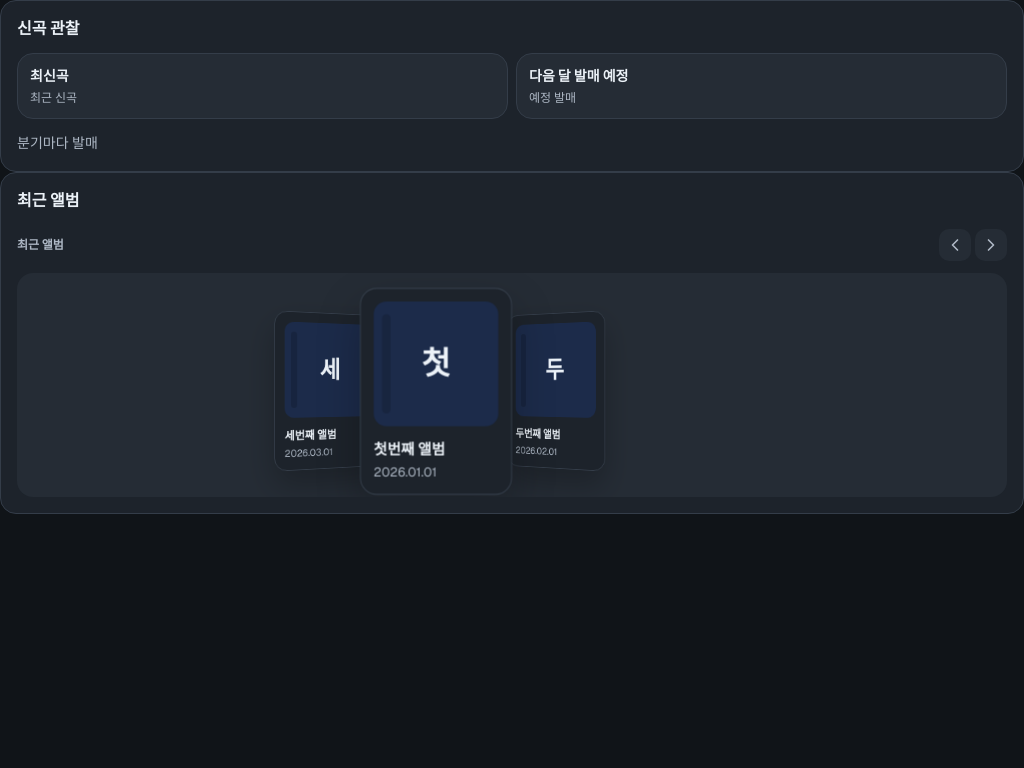
Test: ArtistDetailSection › 앨범을 누르면 앨범 상세 모달이 열리고 닫기 버튼으로 닫힌다
The width and height of the screenshot is (1024, 768).
# 두 번째 앨범을 클릭해 모달을 연다
Click the button "두 두번째 앨범 2026.02.01".
click(556, 391)  # box [507,310,605,472]
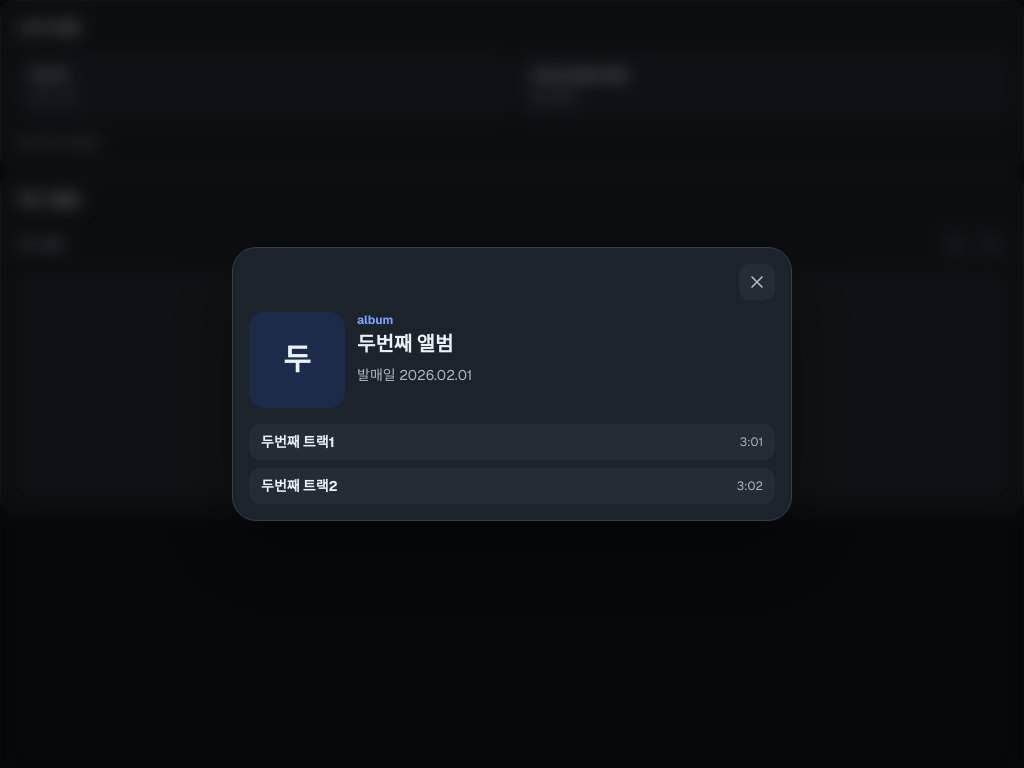
Check: the text "발매일 2026.02.01" is shown, box [357,366,472,384]
# 닫기 버튼을 누르면 모달이 닫힌다
Click the button named "앨범 상세 닫기".
click(757, 282)  # box [739,264,775,300]
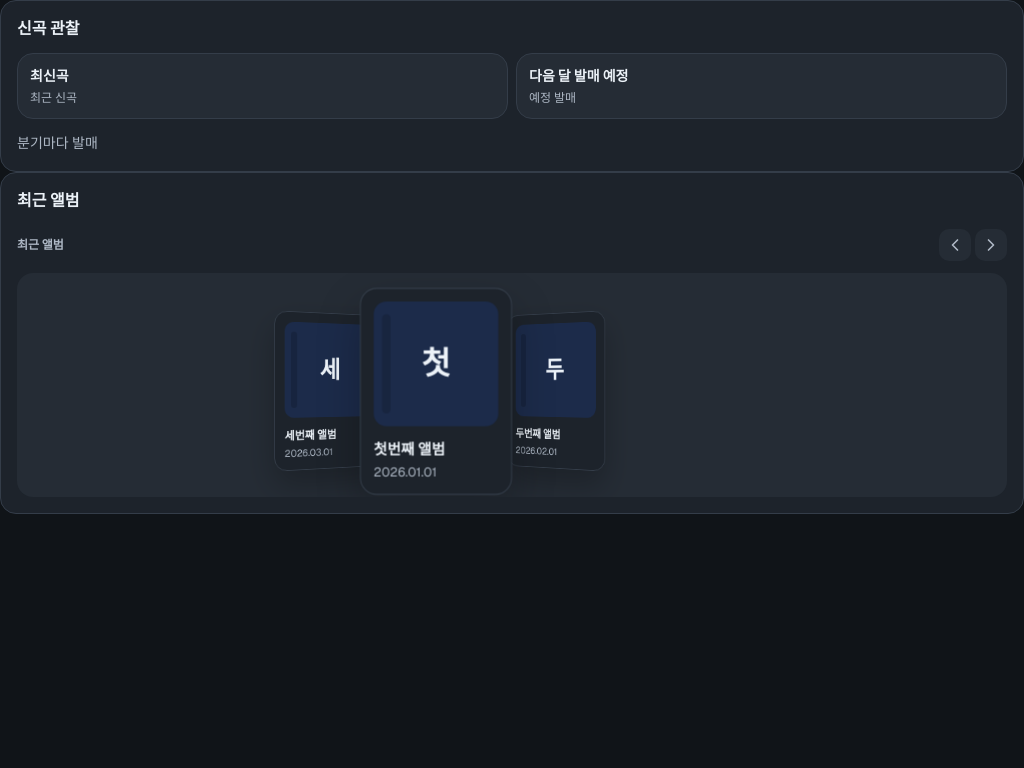
Check: the dialog is gone
